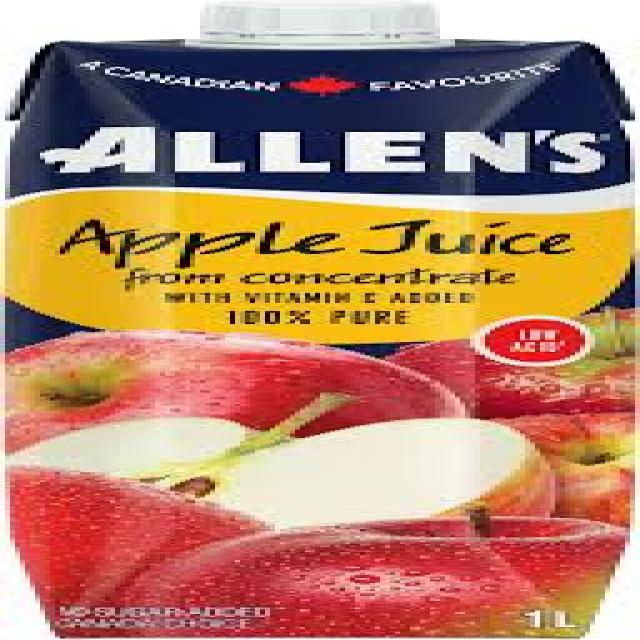non_white_jug: (20, 3, 640, 640)
